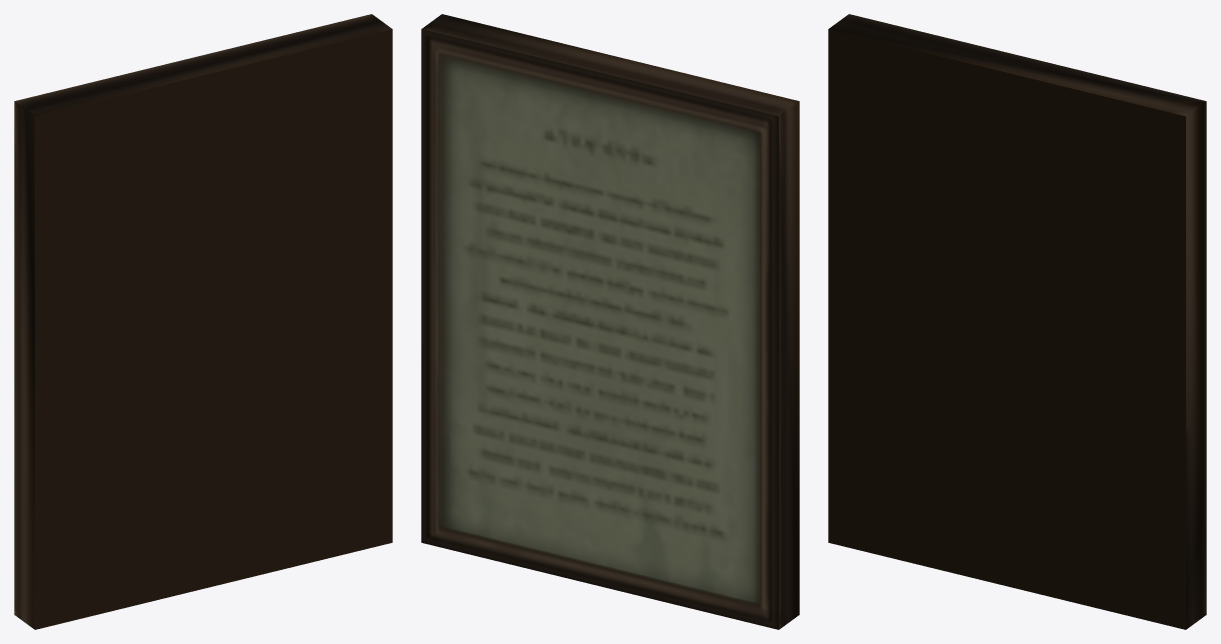
File: a_SWGmap02.glb
3 renders of one model, left to right at view 1: azimuth 30°, elevation 25°; view 2: azimuth 150°, elevation 25°; view 3: azimuth 330°, elevation 25°, orthographic.
Parts seen in each view (by area): view 1: a_SWGmap02; view 2: a_SWGmap02; view 3: a_SWGmap02.
Part boxes in pixels (x1,y1,x2,y2): a_SWGmap02: [14, 14, 392, 629]; a_SWGmap02: [421, 14, 799, 629]; a_SWGmap02: [828, 14, 1206, 629].
Bounding box in the file's own units: 0.6072 × 0.8336 × 0.0608.
1 material, 1 textured.
